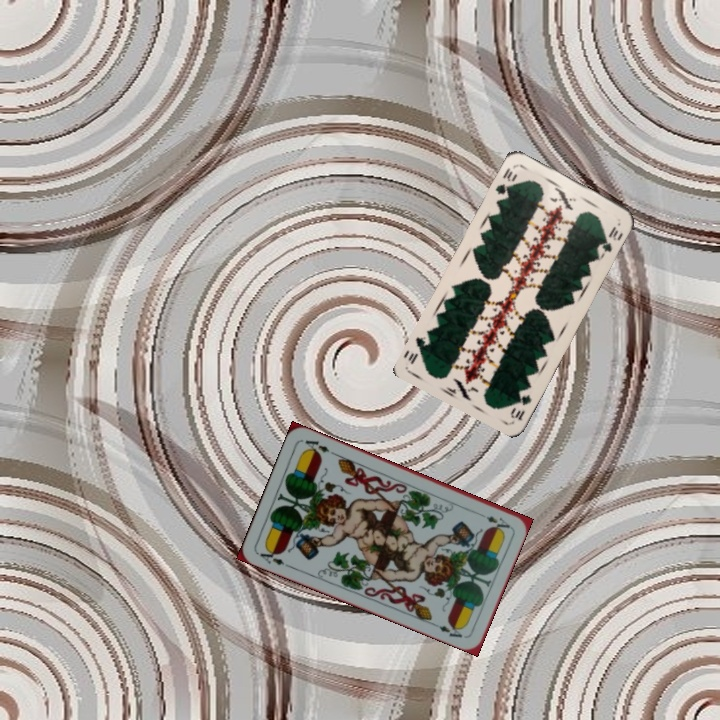EA: (254, 545, 293, 570), (474, 508, 513, 531)
G10: (491, 163, 520, 203), (507, 390, 534, 423)
